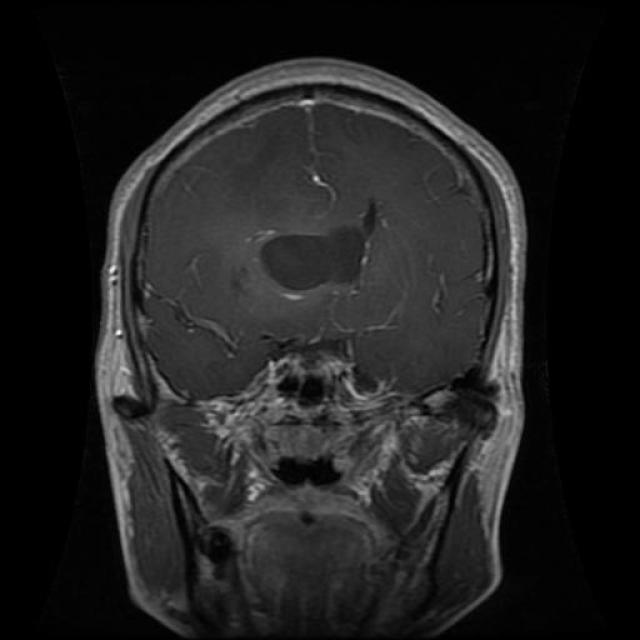glioma: (264, 222, 372, 292)
